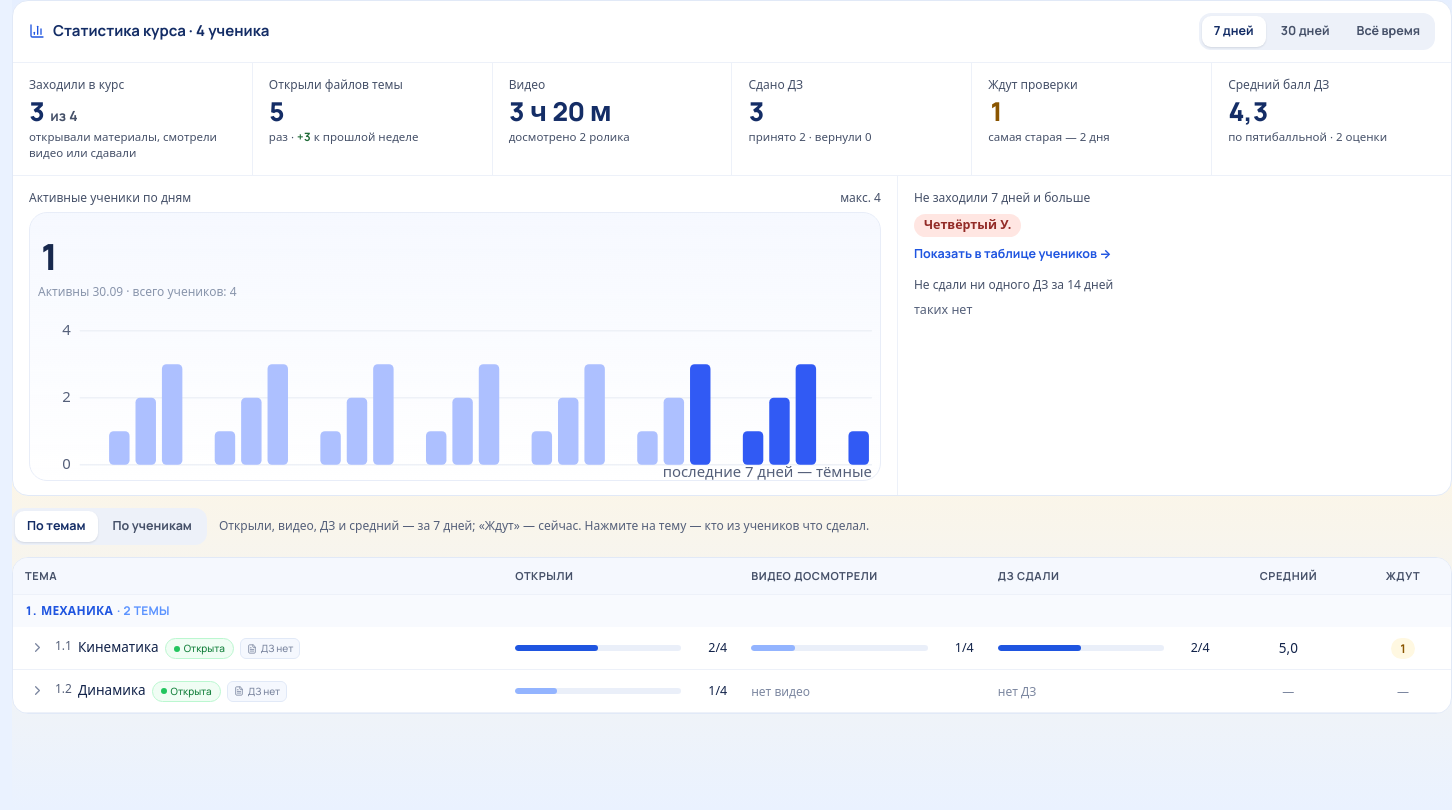
Test: CourseStatsSection (§242) › по темам: новые столбцы и раскрытие темы по ученикам
The width and height of the screenshot is (1452, 810).
Expected: the cell with test id "stat-avg" reads "5,0", [1279, 639, 1298, 657]
Expected: the cell with test id "stat-pending" reads "1", [1399, 640, 1407, 657]
Click the button named "Кто из учеников открыл".
click(37, 647)  # box [25, 635, 49, 659]
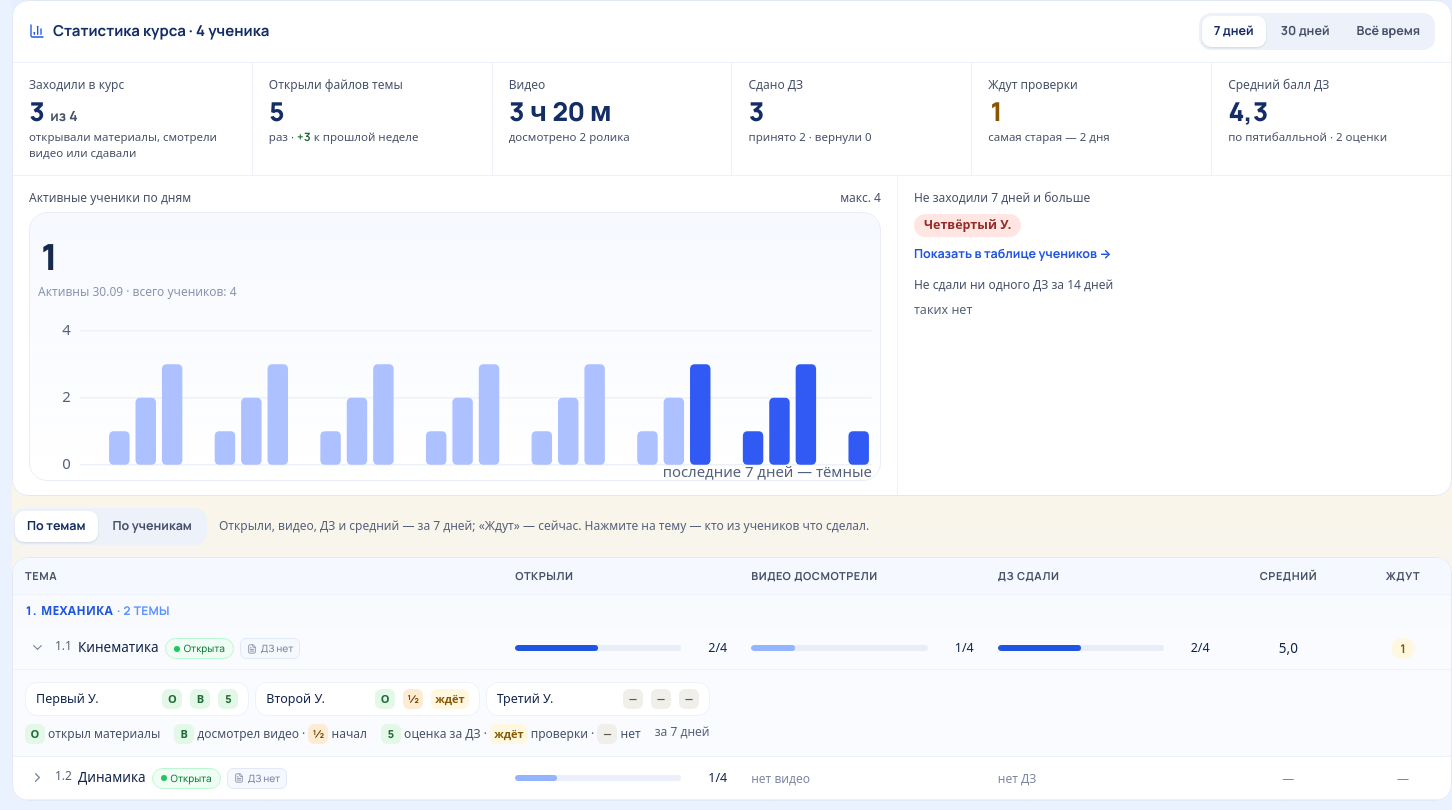
Expected: the number of list items with test id "stats-topic-student" is 3, [25, 682, 249, 716]; [255, 682, 480, 716]; [486, 682, 710, 716]
Expected: the list item with test id "stats-topic-student" shows "Первый У.", [36, 690, 154, 708]
Expected: the text named "Оценка за ДЗ: 5" is shown, [218, 689, 238, 709]
Клик по строке ещё раз сворачивает.
Click the row with test id "stats-topic-row" that starts with "Кинематика".
click(732, 648)  # box [13, 627, 1451, 670]
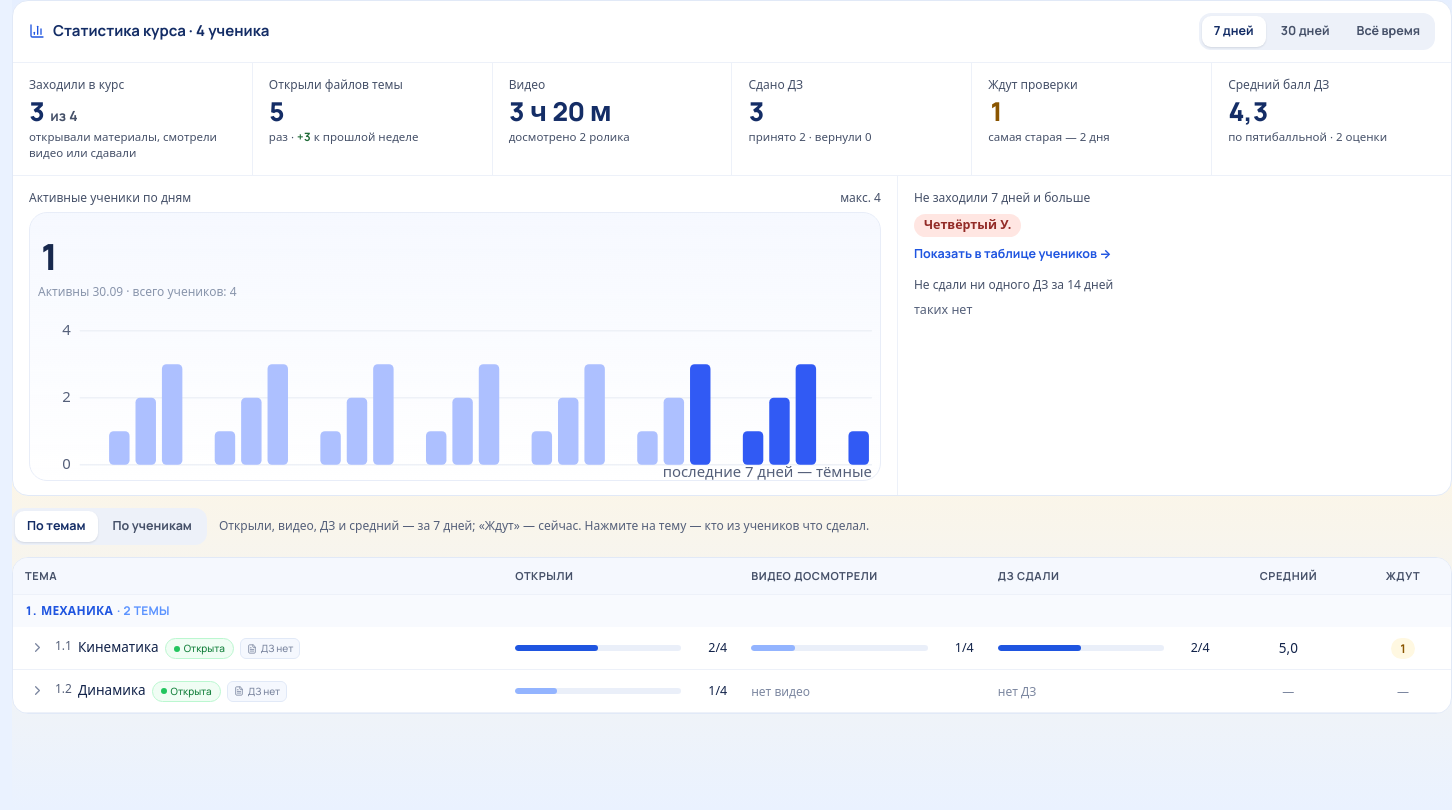
Expected: the row with test id "stats-topic-detail" is gone
